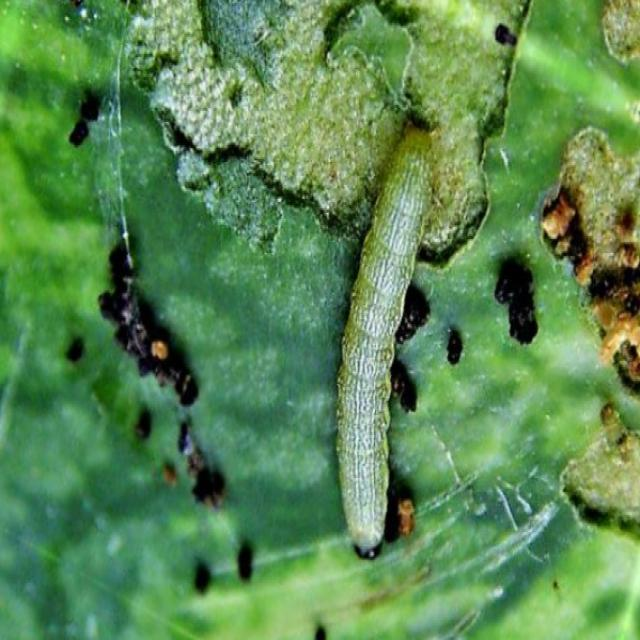Armyworm: (331, 101, 442, 563)
